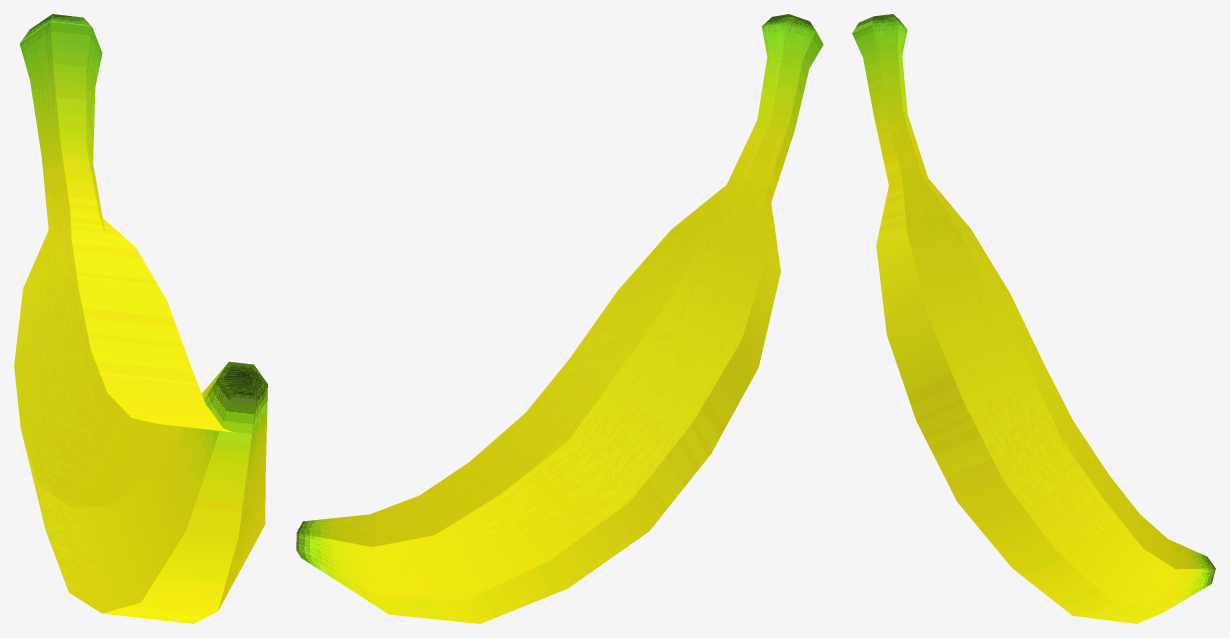
The model's file is ps2_save-icons_deadoralive2hardcore-ups.glb.
The picture shows the model from 3 angles, left to right: view 1: azimuth 30°, elevation 25°; view 2: azimuth 150°, elevation 25°; view 3: azimuth 270°, elevation 25°; orthographic projection. The views are drawn at different scales.
Visible parts, largest first — view 1: ups_ba.ico; view 2: ups_ba.ico; view 3: ups_ba.ico.
Part boxes in pixels (x1=…): ups_ba.ico: x1=14, y1=14, x2=267, y2=623; ups_ba.ico: x1=296, y1=14, x2=823, y2=623; ups_ba.ico: x1=852, y1=14, x2=1215, y2=623.
Bounding box in the file's own units: 3.01 × 4.57 × 3.01.
Materials: 1 (1 with a texture image).
